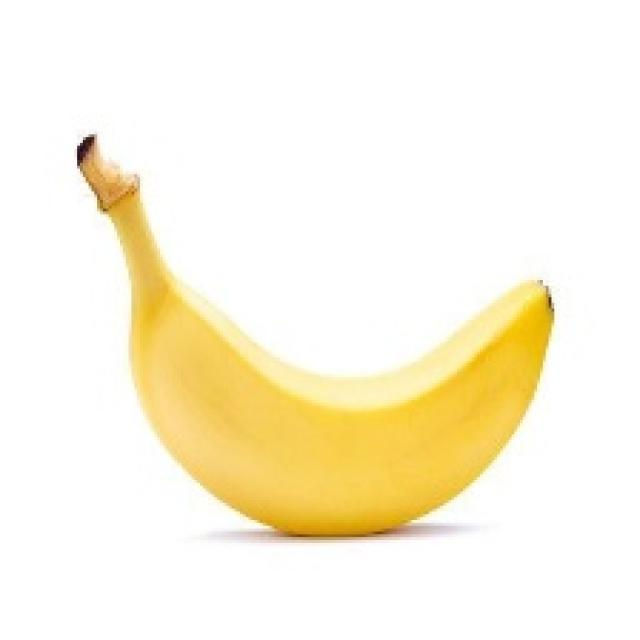Banana: (74, 132, 554, 537)
